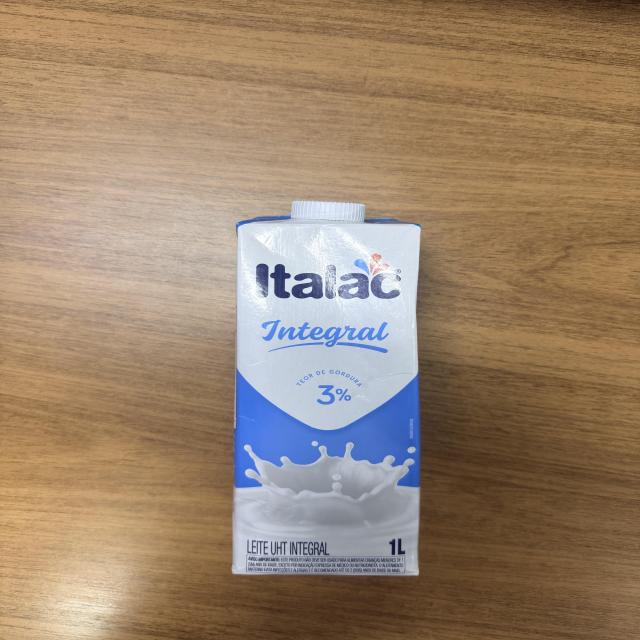Caixa de Leite: (237, 211, 428, 571)
